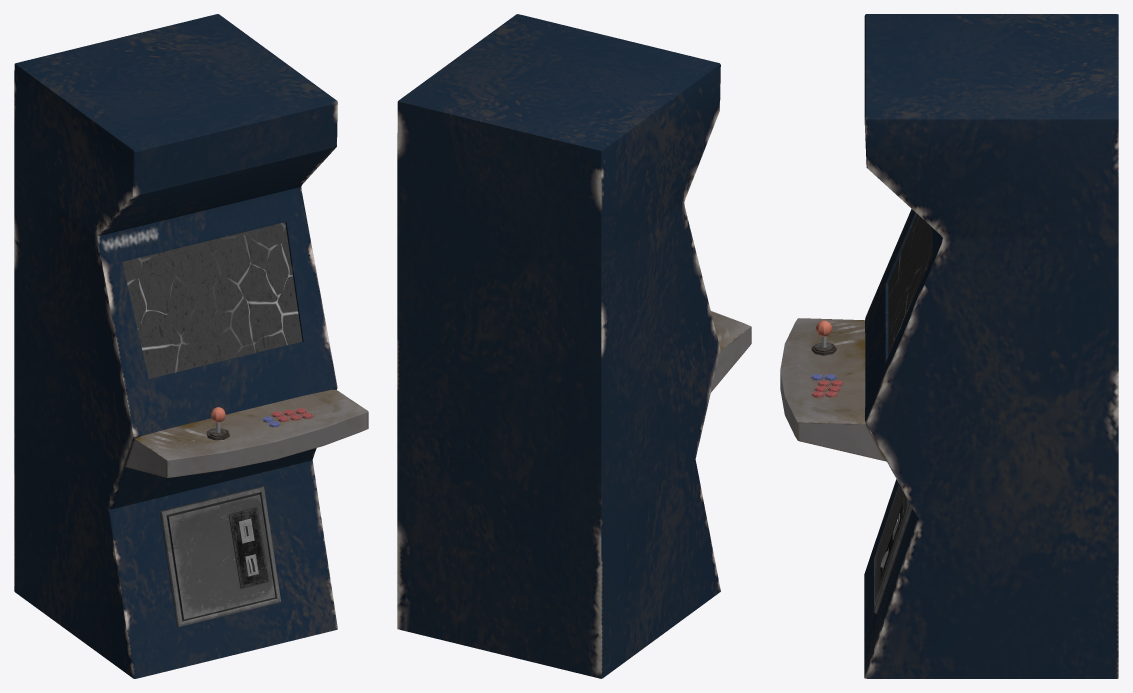
Rendered from Arcade_Var1-blue.fbx.
3 renders of one model, left to right at view 1: azimuth 30°, elevation 25°; view 2: azimuth 150°, elevation 25°; view 3: azimuth 270°, elevation 25°, orthographic. The views are drawn at different scales.
Parts seen in each view (by area): view 1: Cabinet-main.001; view 2: Cabinet-main.001; view 3: Cabinet-main.001.
Part boxes in pixels (left/top/right/bottom): Cabinet-main.001: left=14, top=14, right=368, bottom=678; Cabinet-main.001: left=397, top=14, right=751, bottom=678; Cabinet-main.001: left=780, top=14, right=1118, bottom=678.
Size of the model in its own units: 129 by 317 by 174.
1 material, 1 textured.
